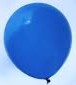Balloon: (3, 2, 72, 79)
